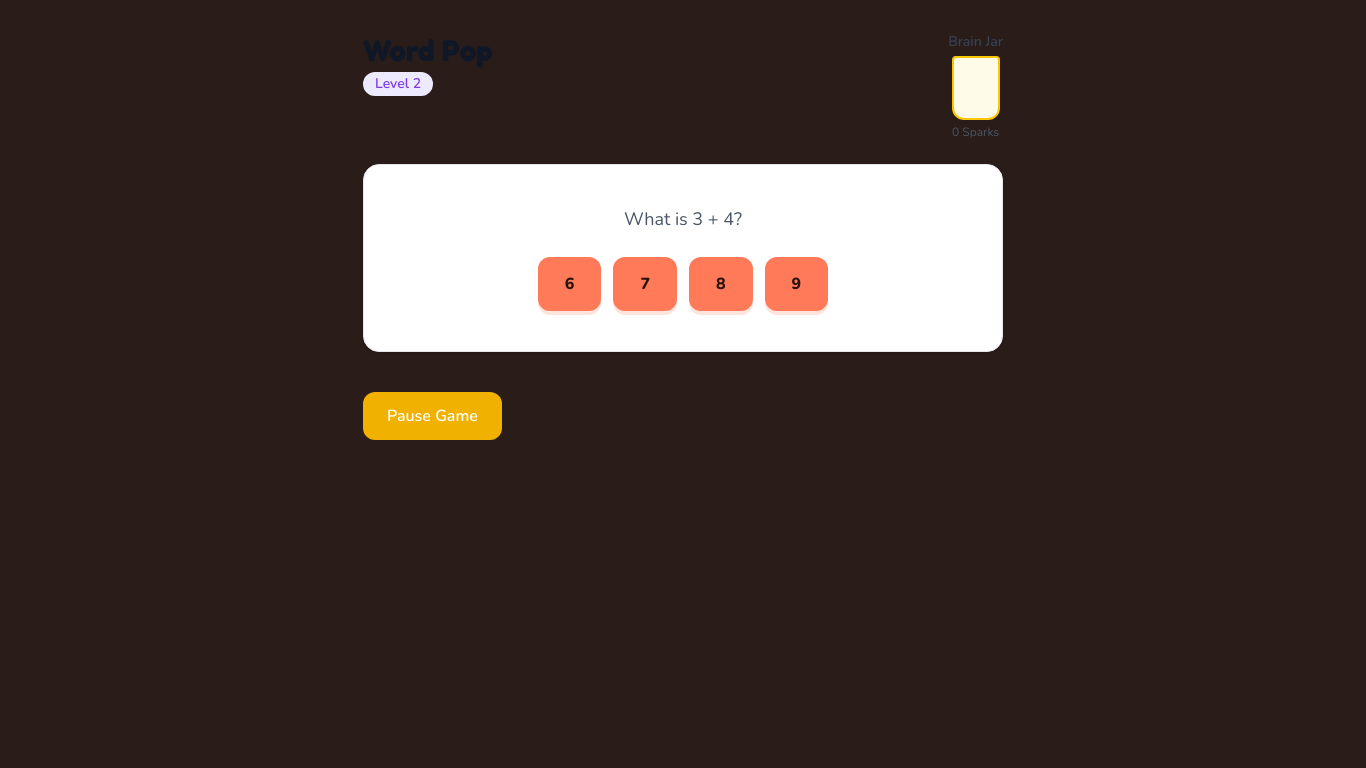
Test: GameplayPage (active play screen) › clicking "Pause Game" shows the PauseOverlay with "Game Paused" (AC2)
Expected: the text "Game Paused" is not shown
What coordinates should you click on to do the following:
click the button "Pause Game"
I would click on:
 (432, 416)
Its box is [363,392,502,440].
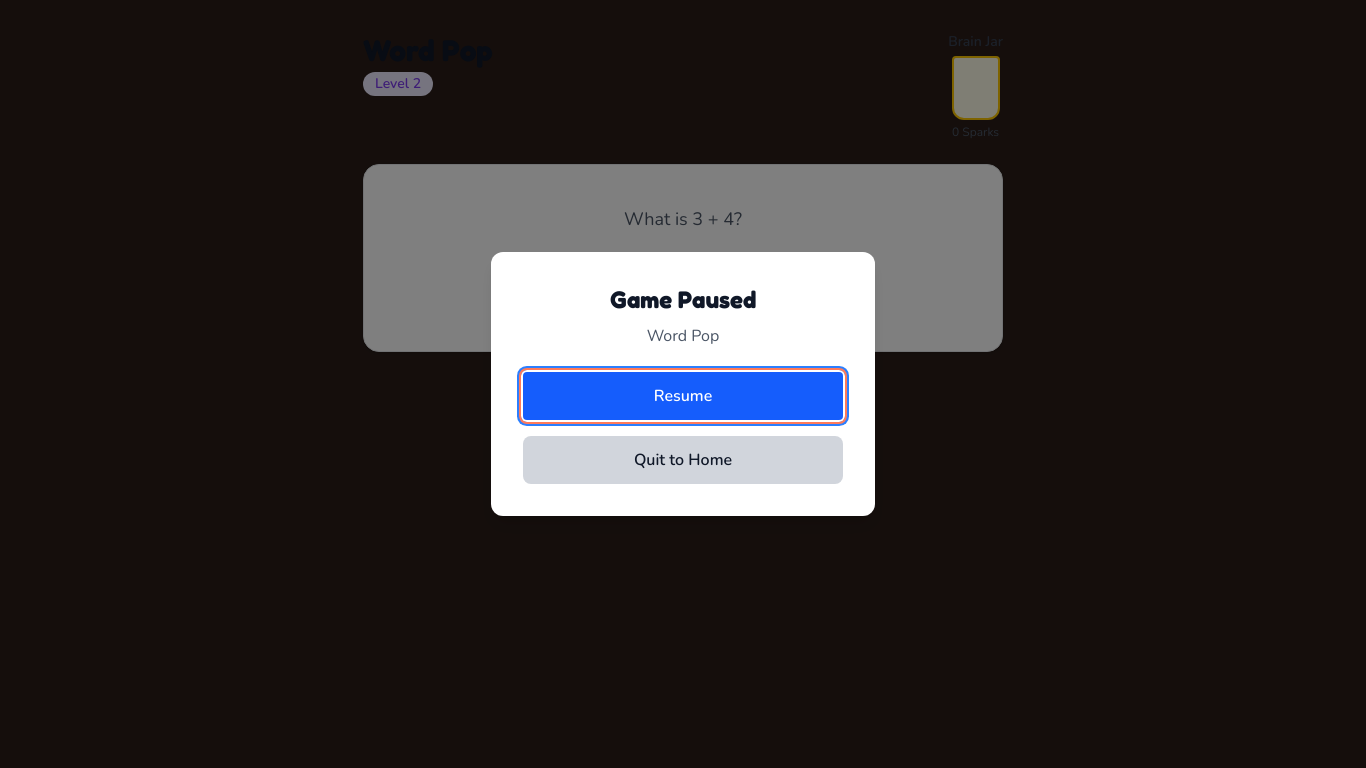
Result: the heading "Game Paused" is shown at [610,285,756,314]
